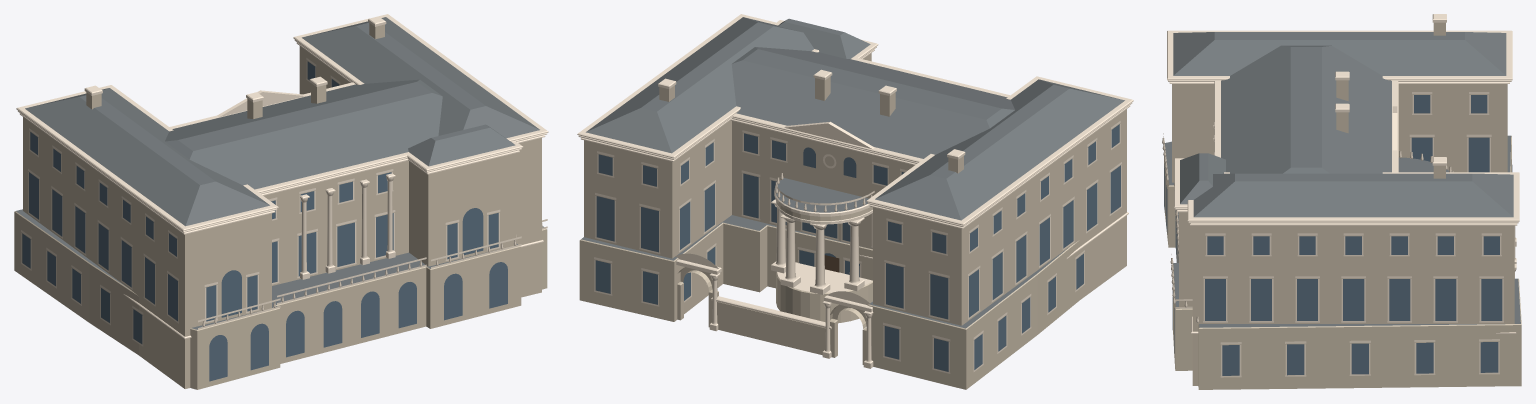
Rendered from dc-anderson-house.glb.
3 views of the same model, side by side, from view 1: azimuth 30°, elevation 25°; view 2: azimuth 150°, elevation 25°; view 3: azimuth 270°, elevation 25° (orthographic). The views are drawn at different scales.
Visible parts, largest first — view 1: Anderson House; view 2: Anderson House; view 3: Anderson House.
Boxes of the visible parts, x1=… form: Anderson House: x1=14, y1=14, x2=548, y2=389; Anderson House: x1=577, y1=14, x2=1133, y2=389; Anderson House: x1=1162, y1=14, x2=1521, y2=389.
Bounding box in the file's own units: 44.48 × 21.85 × 35.07.
